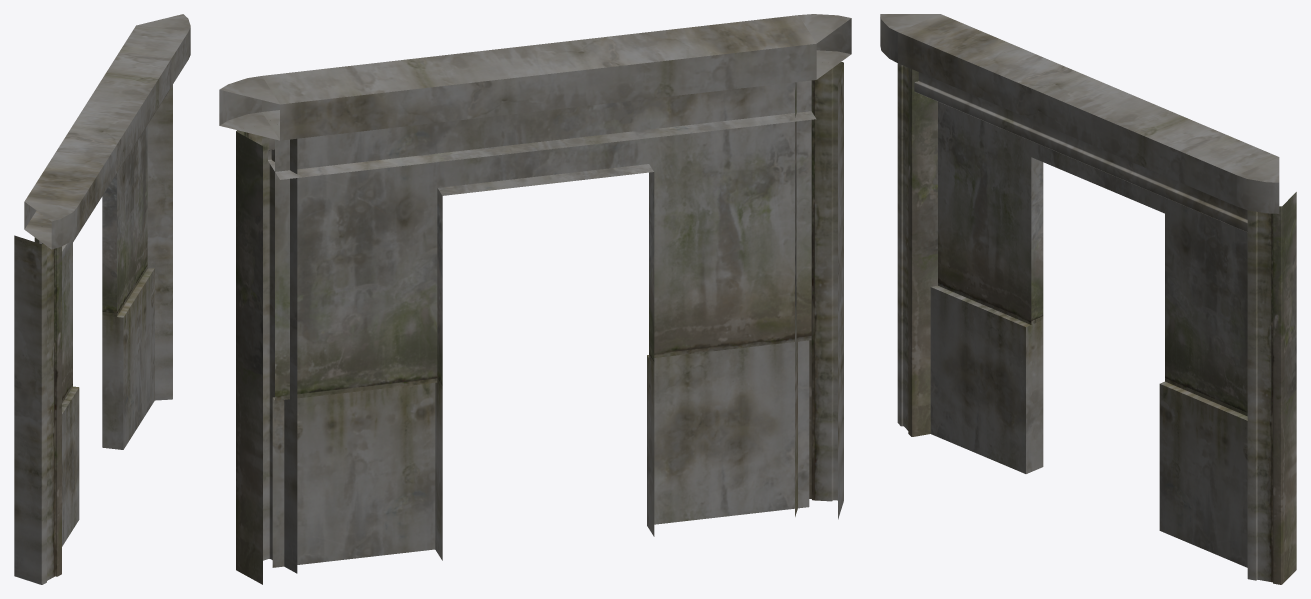
The model's file is Psychiatric_Ward_Guards_Room_Exterior_Wall_45_Degree_Door.glb.
3 views of the same model, side by side, from view 1: azimuth 30°, elevation 25°; view 2: azimuth 150°, elevation 25°; view 3: azimuth 270°, elevation 25° (orthographic). The views are drawn at different scales.
Visible parts, largest first — view 1: Psychiatric_Ward_Guards_Room_Exterior_Wall_45_Degree_Door; view 2: Psychiatric_Ward_Guards_Room_Exterior_Wall_45_Degree_Door; view 3: Psychiatric_Ward_Guards_Room_Exterior_Wall_45_Degree_Door.
Boxes of the visible parts, box(x1,y1,x2,y2) form: Psychiatric_Ward_Guards_Room_Exterior_Wall_45_Degree_Door: box(14, 14, 190, 584); Psychiatric_Ward_Guards_Room_Exterior_Wall_45_Degree_Door: box(219, 14, 851, 584); Psychiatric_Ward_Guards_Room_Exterior_Wall_45_Degree_Door: box(880, 14, 1296, 584).
Size of the model in its own units: 2.46 by 2.67 by 2.46.
2 materials, 2 textured.
